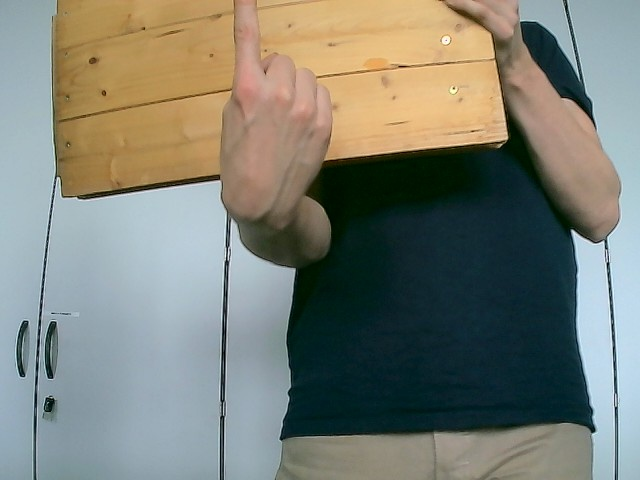up: (217, 1, 334, 231)
